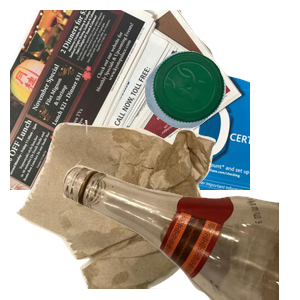glass: (60, 120, 300, 300)
paper: (10, 10, 250, 190)
plastic: (142, 48, 300, 169)
trash: (14, 120, 222, 300)
